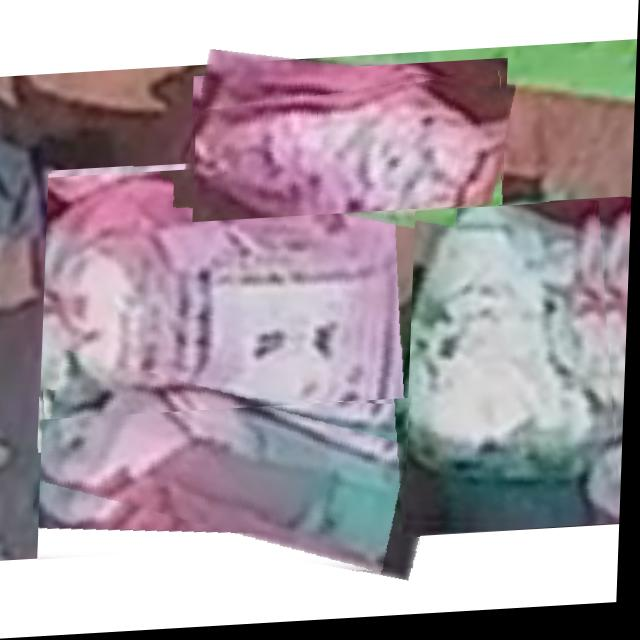general_trashbag: (411, 212, 619, 530)
other_trashbag: (45, 162, 430, 429), (45, 411, 424, 575), (197, 85, 504, 220)
